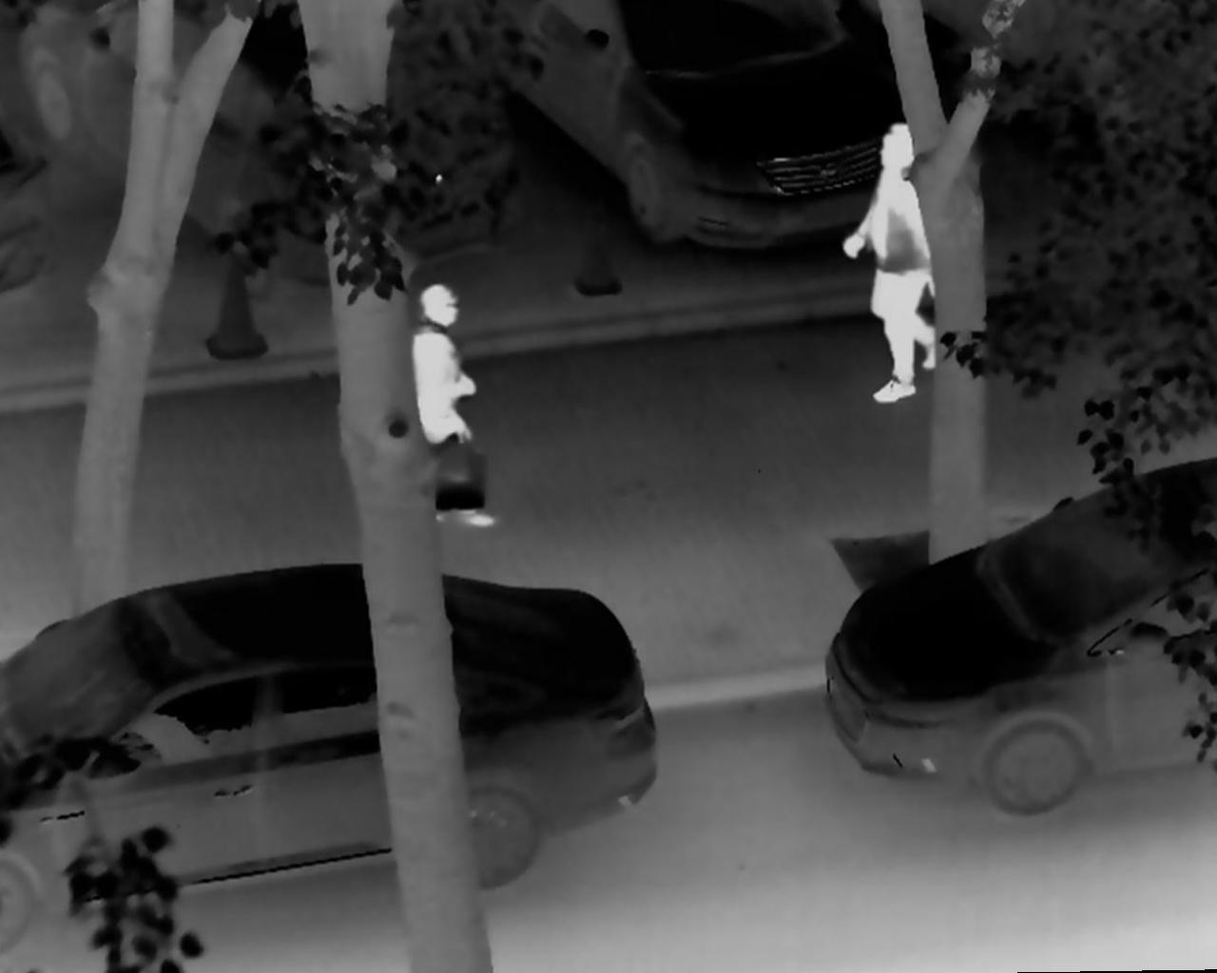person: (837, 118, 956, 411), (394, 275, 502, 534)
